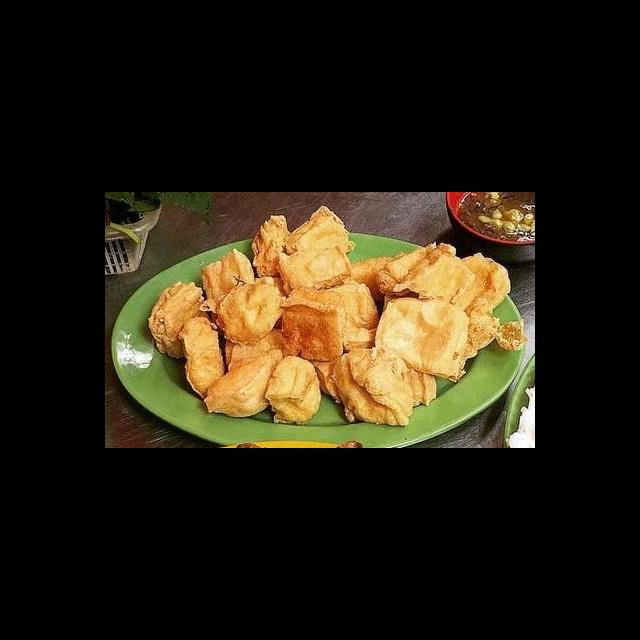dau hu: (334, 234, 532, 360), (196, 344, 329, 434), (245, 201, 357, 307), (319, 340, 447, 431), (371, 291, 473, 386), (173, 308, 243, 412), (141, 278, 217, 367), (276, 284, 351, 365), (210, 275, 292, 345), (194, 246, 263, 327)
